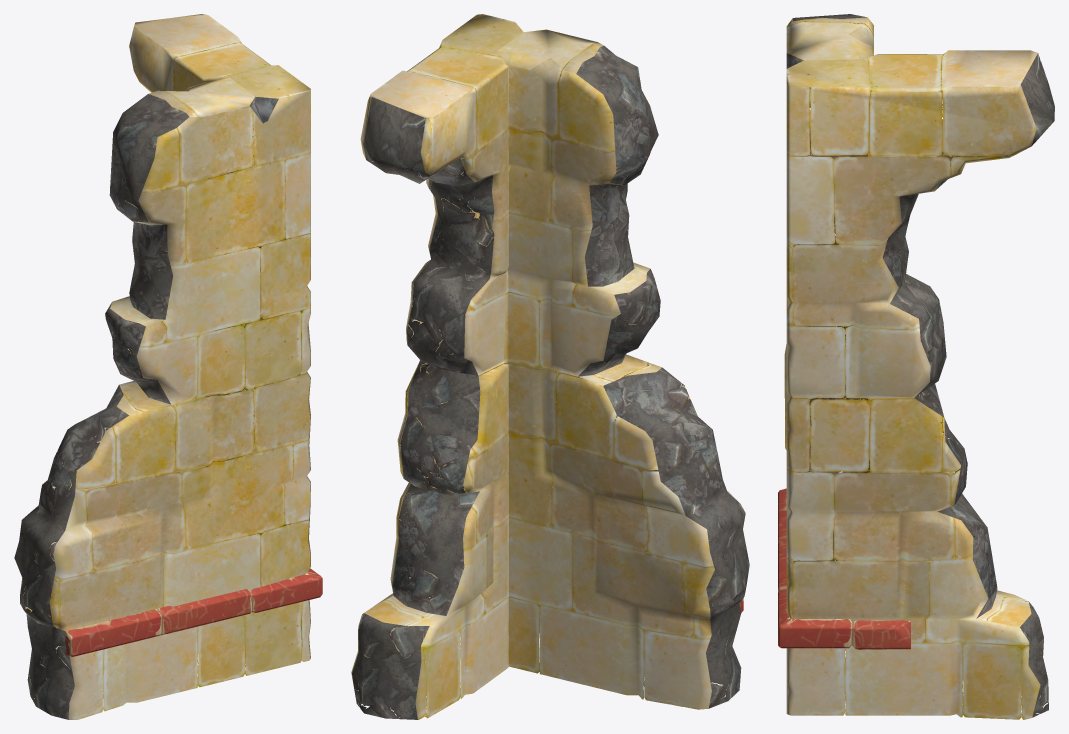
The picture shows the model from 3 angles, left to right: view 1: azimuth 30°, elevation 25°; view 2: azimuth 150°, elevation 25°; view 3: azimuth 270°, elevation 25°; orthographic projection. The views are drawn at different scales.
Visible parts, largest first — view 1: SM_Menaphite_Ruins_01_Wall_Piece_02_LOD0; view 2: SM_Menaphite_Ruins_01_Wall_Piece_02_LOD0; view 3: SM_Menaphite_Ruins_01_Wall_Piece_02_LOD0.
Boxes of the visible parts, bbox=[...] form: SM_Menaphite_Ruins_01_Wall_Piece_02_LOD0: bbox=[14, 14, 322, 719]; SM_Menaphite_Ruins_01_Wall_Piece_02_LOD0: bbox=[351, 14, 749, 719]; SM_Menaphite_Ruins_01_Wall_Piece_02_LOD0: bbox=[778, 14, 1054, 719].
Size of the model in its own units: 3.99 by 8 by 3.17.
3 materials, 3 textured.
